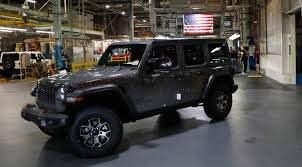mobil: (25, 37, 248, 150)
